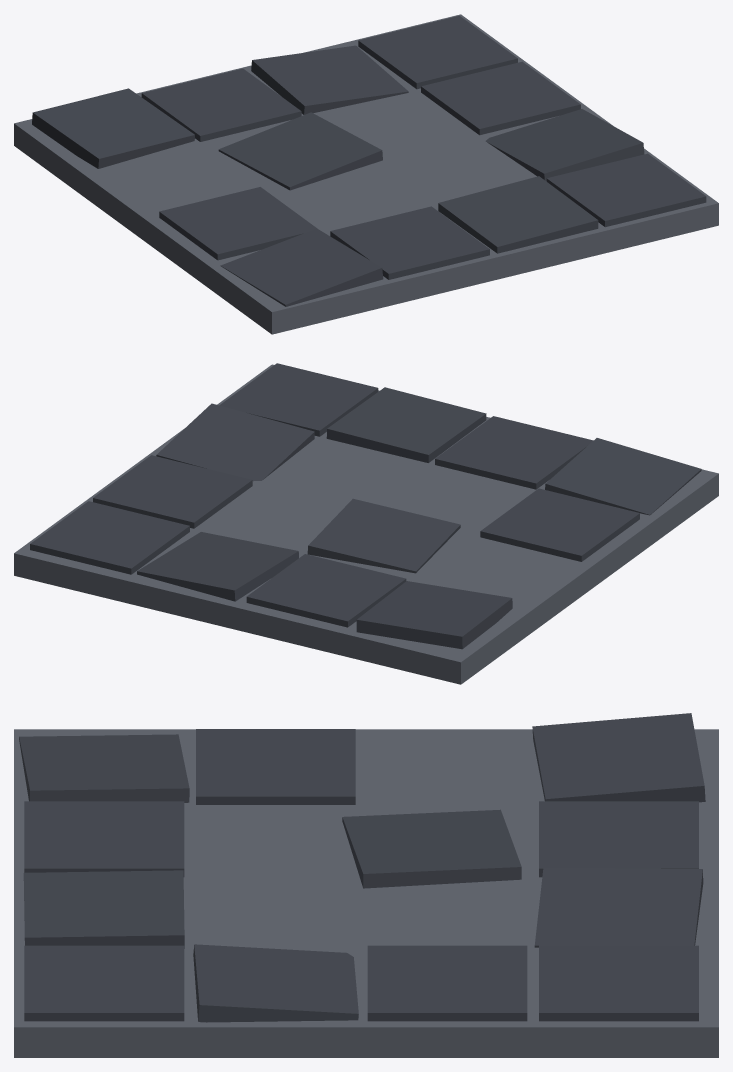
Rendered from Floor04.fbx.
3 views of the same model, one above another, from view 1: azimuth 30°, elevation 25°; view 2: azimuth 150°, elevation 25°; view 3: azimuth 270°, elevation 25° (orthographic). The views are drawn at different scales.
Visible parts, largest first — view 1: Cube.002; view 2: Cube.002; view 3: Cube.002.
Boxes of the visible parts, x1,y1,x2,y2 form: Cube.002: (14,14,718,334); Cube.002: (14,363,718,684); Cube.002: (14,713,718,1057).
Bounding box in the file's own units: 200 × 16.48 × 200.
